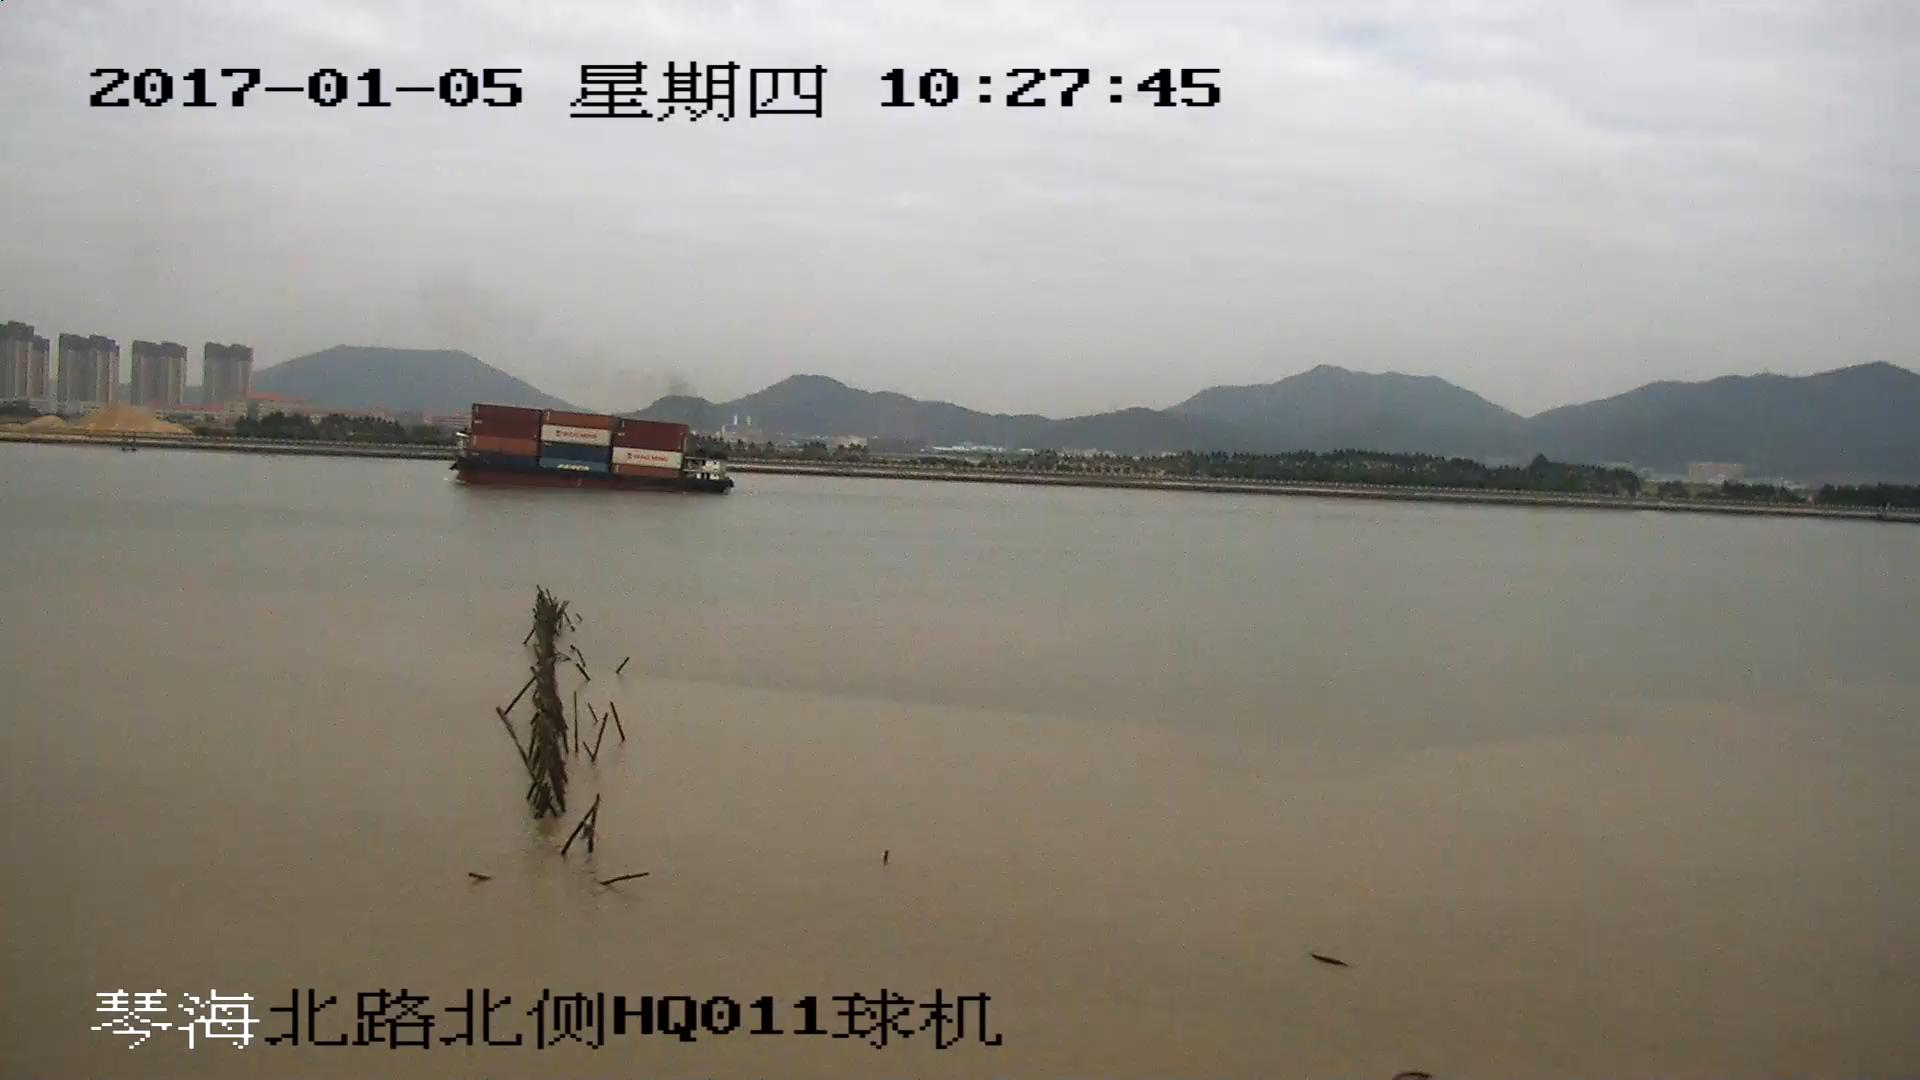container ship: (446, 407, 732, 494)
